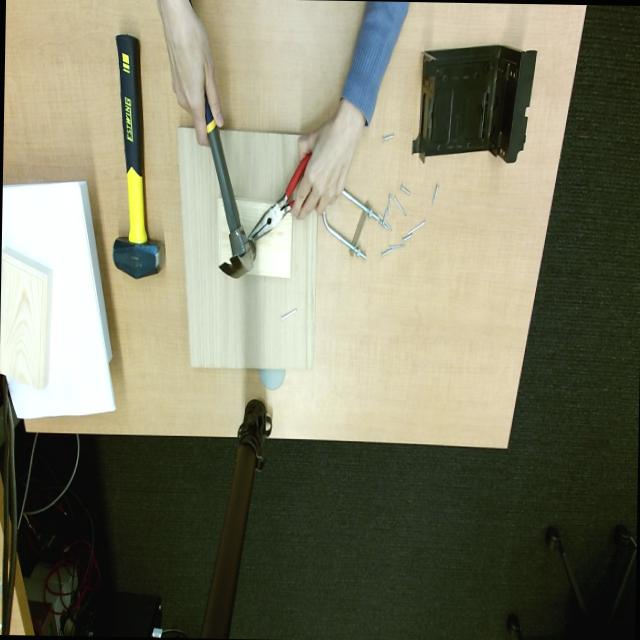hammer: (112, 34, 164, 279), (205, 98, 255, 276)
pliers: (248, 153, 310, 241)
